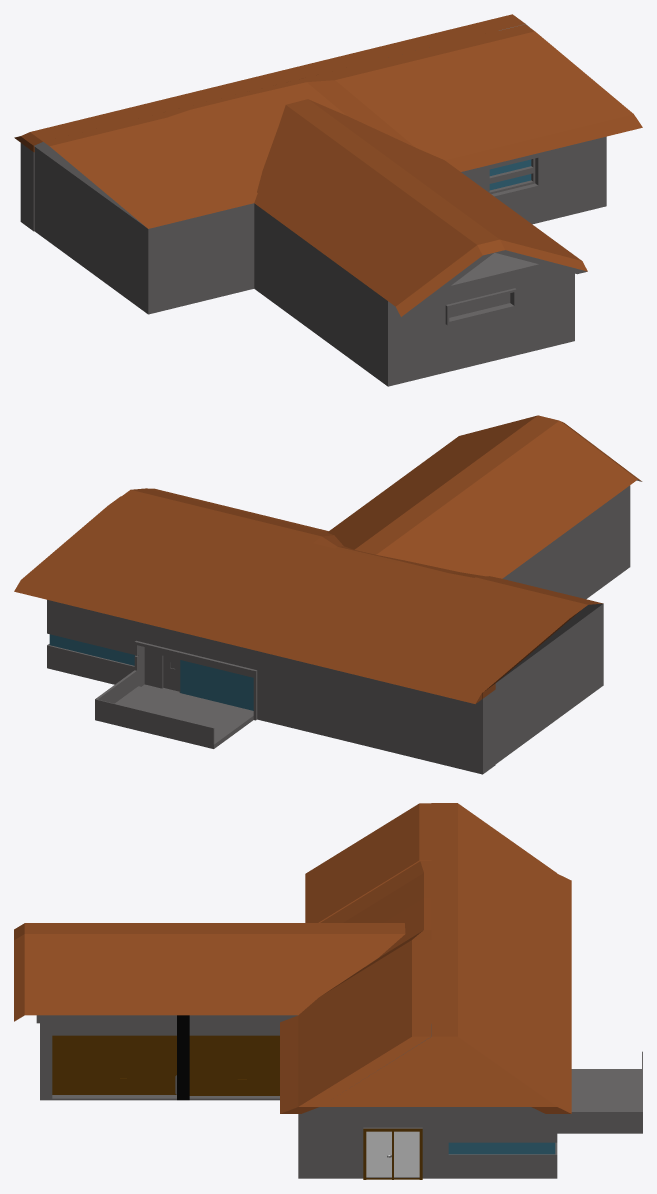
File: Dom.fbx
The picture shows the model from 3 angles, top to bottom: view 1: azimuth 30°, elevation 25°; view 2: azimuth 150°, elevation 25°; view 3: azimuth 270°, elevation 25°; orthographic projection. The views are drawn at different scales.
Visible parts, largest first — view 1: Cube; view 2: Cube; view 3: Cube.
Part boxes in pixels (bbox=[...]): Cube: bbox=[14, 14, 642, 386]; Cube: bbox=[14, 415, 642, 774]; Cube: bbox=[14, 803, 642, 1179].
Bounding box in the file's own units: 4595 × 1145 × 4821.
